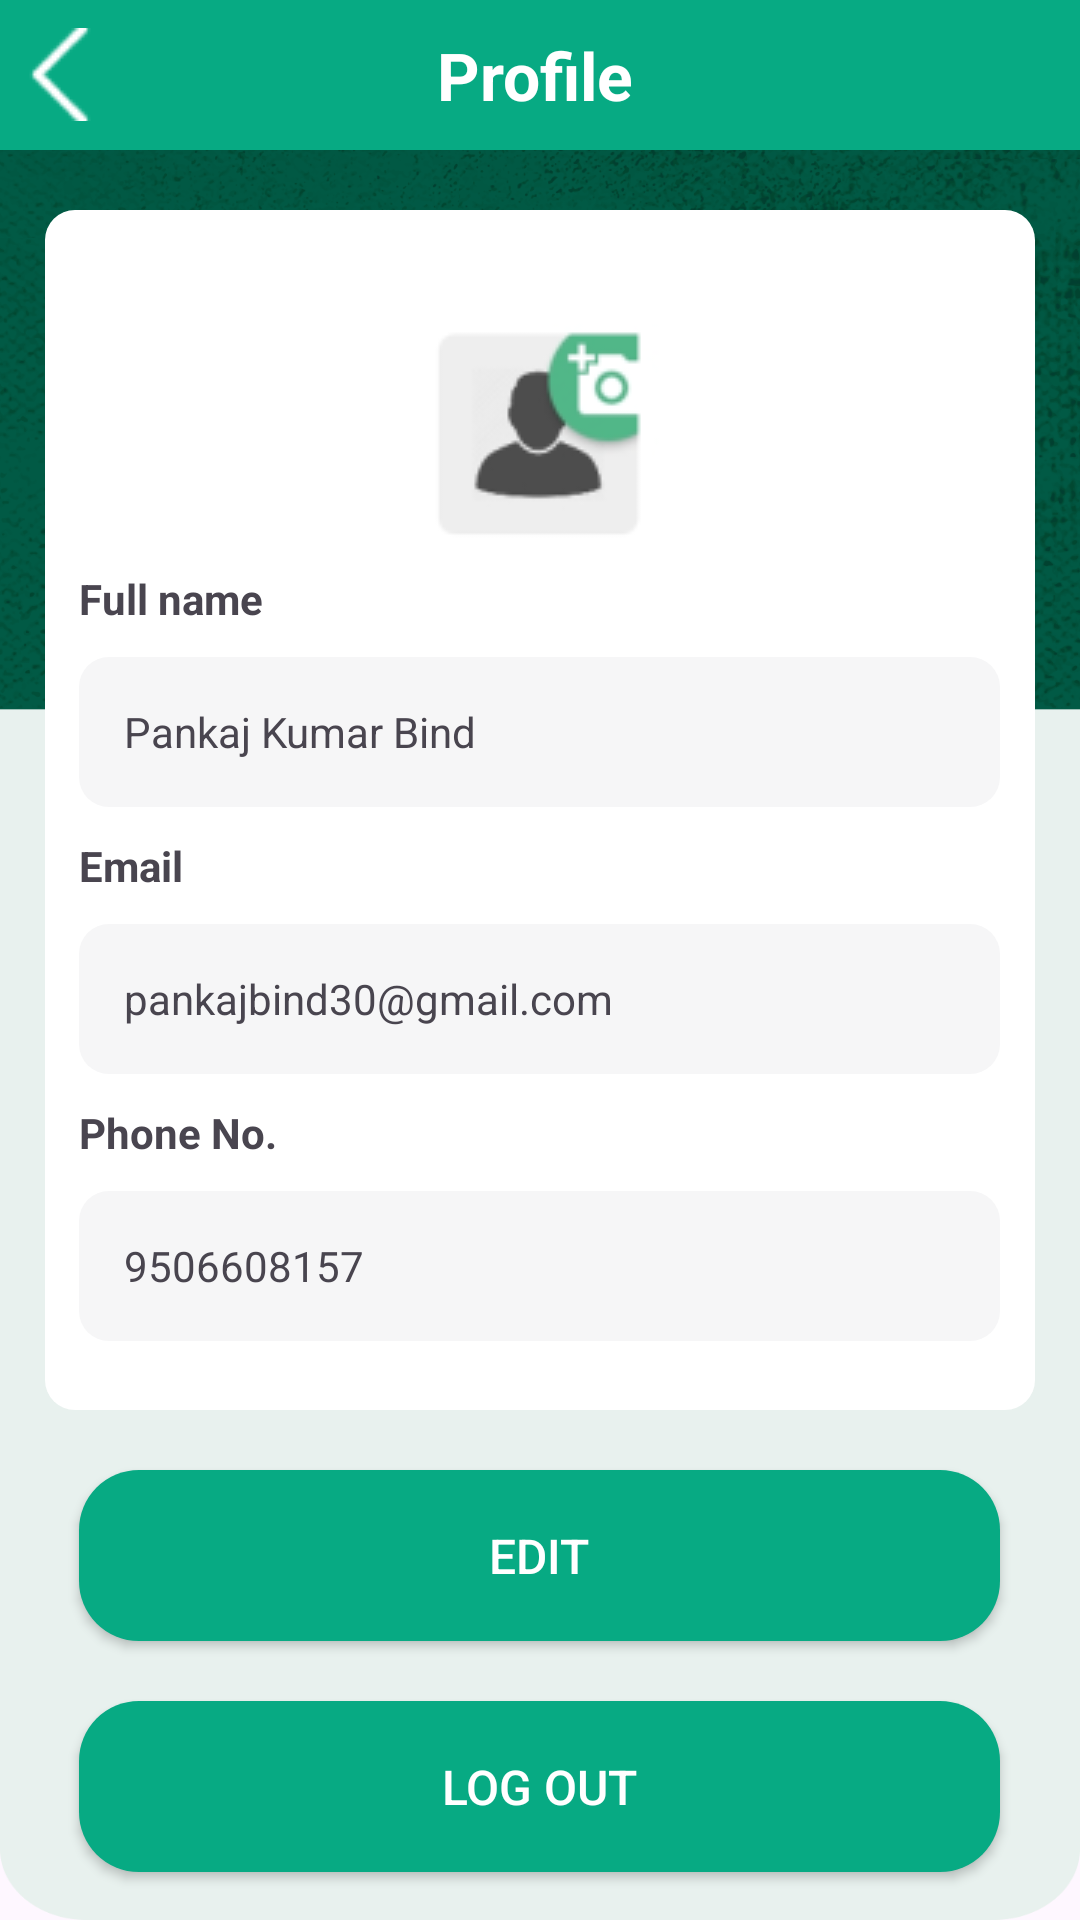

Screen size 1080*1920. Icon name, then its box in pixels as (x1, y1, x2, y2):
leftarrow: (31, 28, 89, 121)
userimg: (474, 332, 640, 499)
